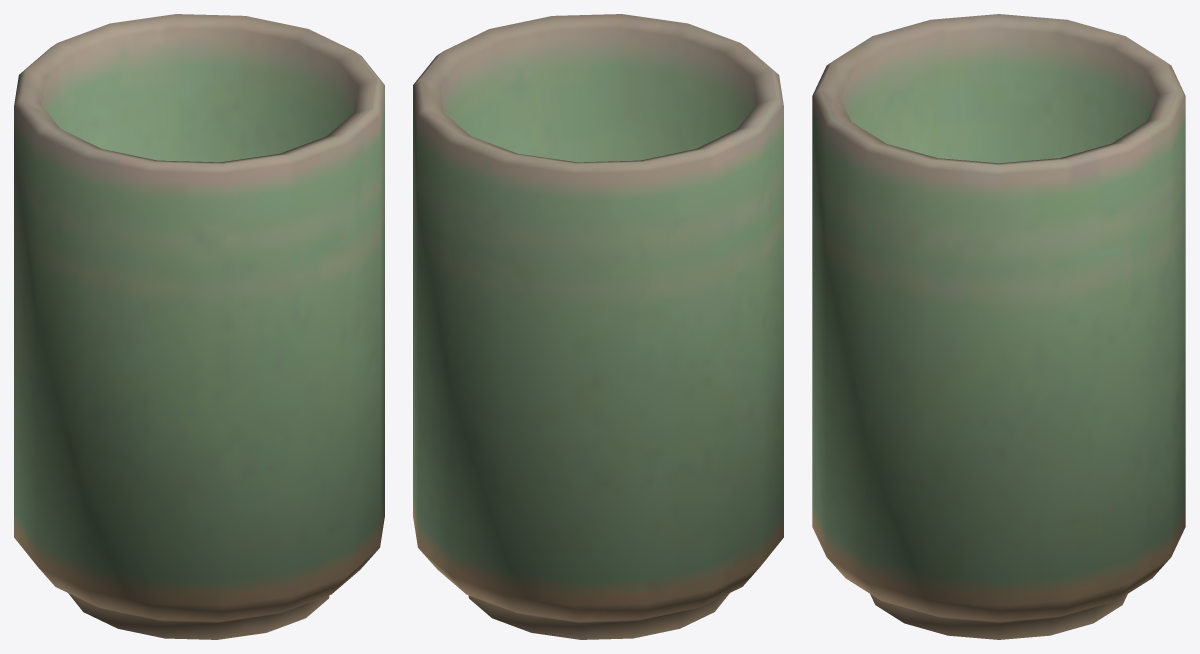
Rendered from Tableware_Cup01.fbx.
The picture shows the model from 3 angles, left to right: view 1: azimuth 30°, elevation 25°; view 2: azimuth 150°, elevation 25°; view 3: azimuth 270°, elevation 25°; orthographic projection.
Parts seen in each view (by area): view 1: Tableware_Cup01; view 2: Tableware_Cup01; view 3: Tableware_Cup01.
Part boxes in pixels (<box>): Tableware_Cup01: <box>14,14,384,639</box>; Tableware_Cup01: <box>413,14,783,639</box>; Tableware_Cup01: <box>812,14,1185,639</box>.
Size of the model in its own units: 7.2 by 10.52 by 7.2.
